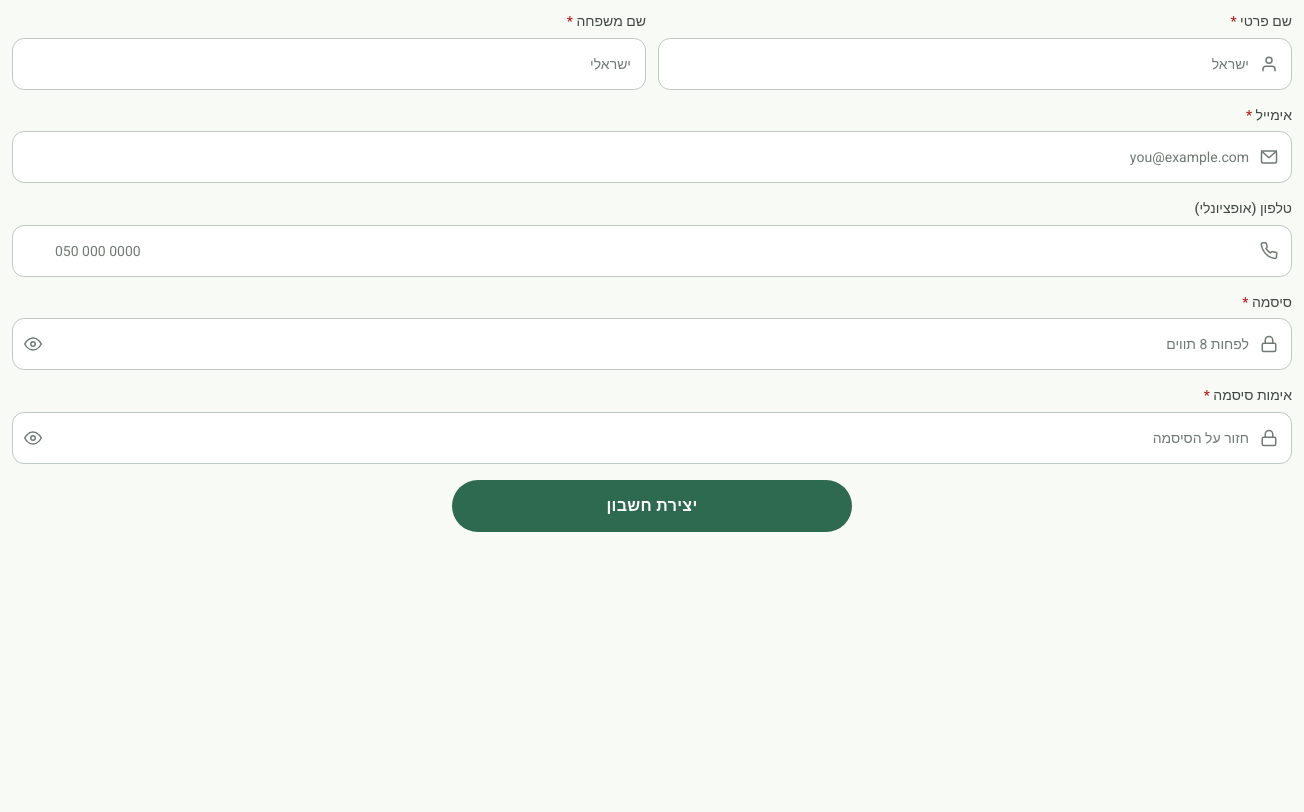
Test case: RegisterFormB2C › rejects mismatched passwords
Step 1. Type "דנה" into the field labelled "שם פרטי *" → (975, 64), box [658,38,1292,90]
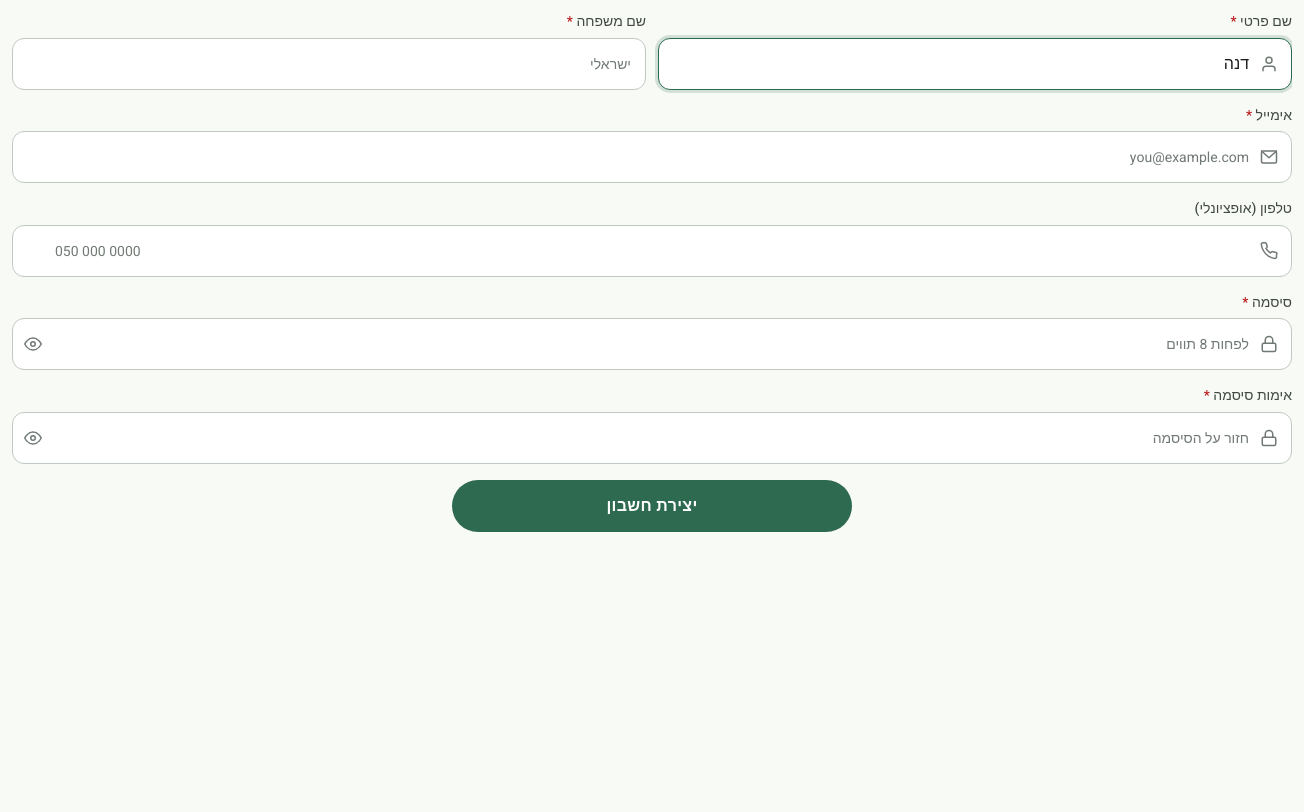
Step 2. Type "כהן" into the field labelled "שם משפחה *" → (329, 64), box [12,38,646,90]
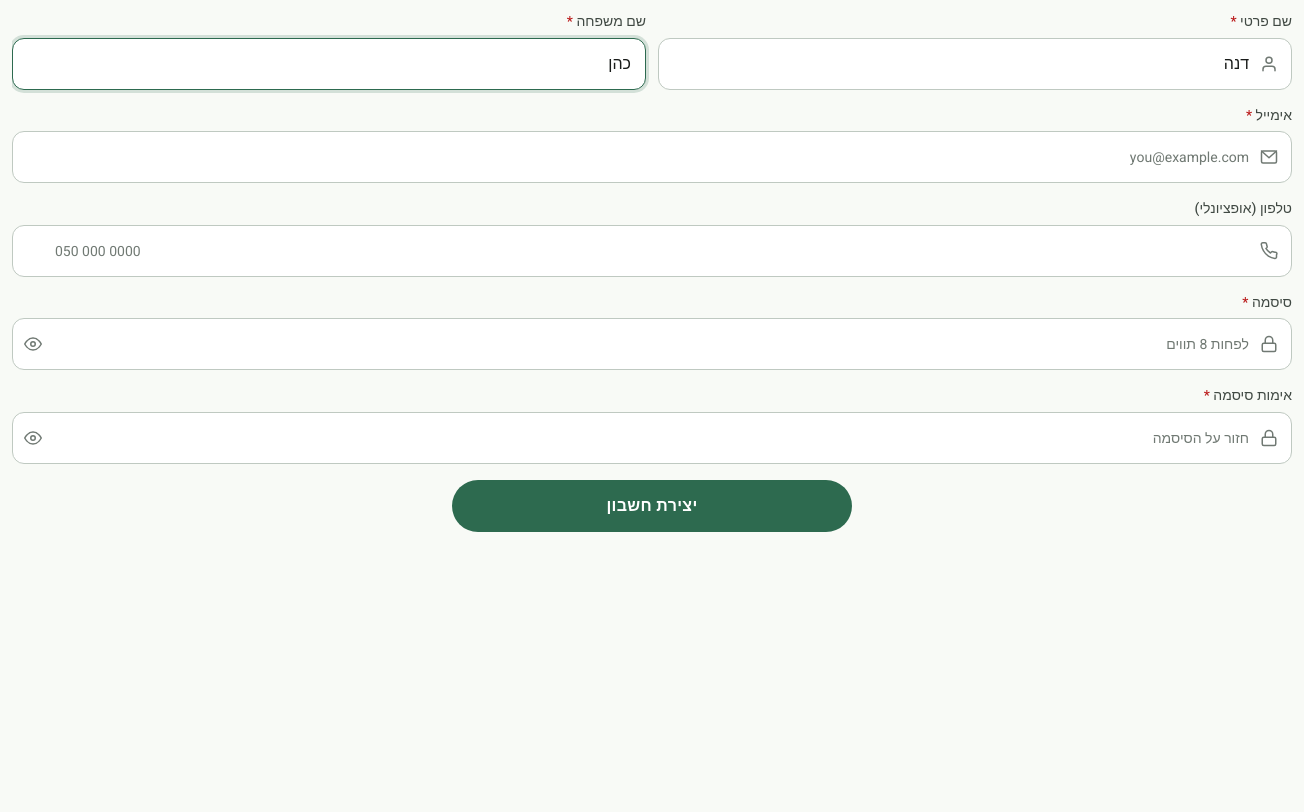
Step 3. Type "dana@last.co" into the field labelled "אימייל *" → (652, 157), box [12,131,1292,183]
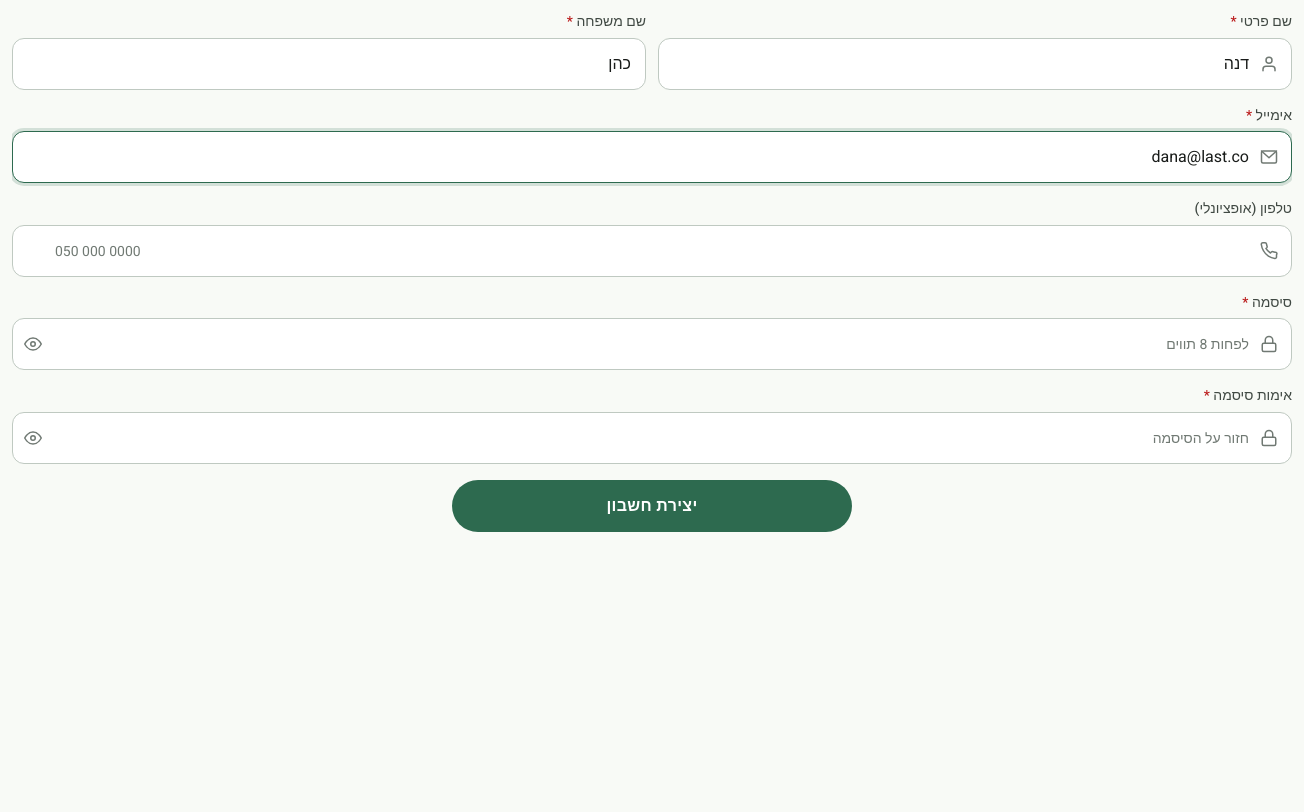
Step 4. Type "secret123" into the password field labelled "סיסמה *" → (652, 344), box [12,318,1292,370]
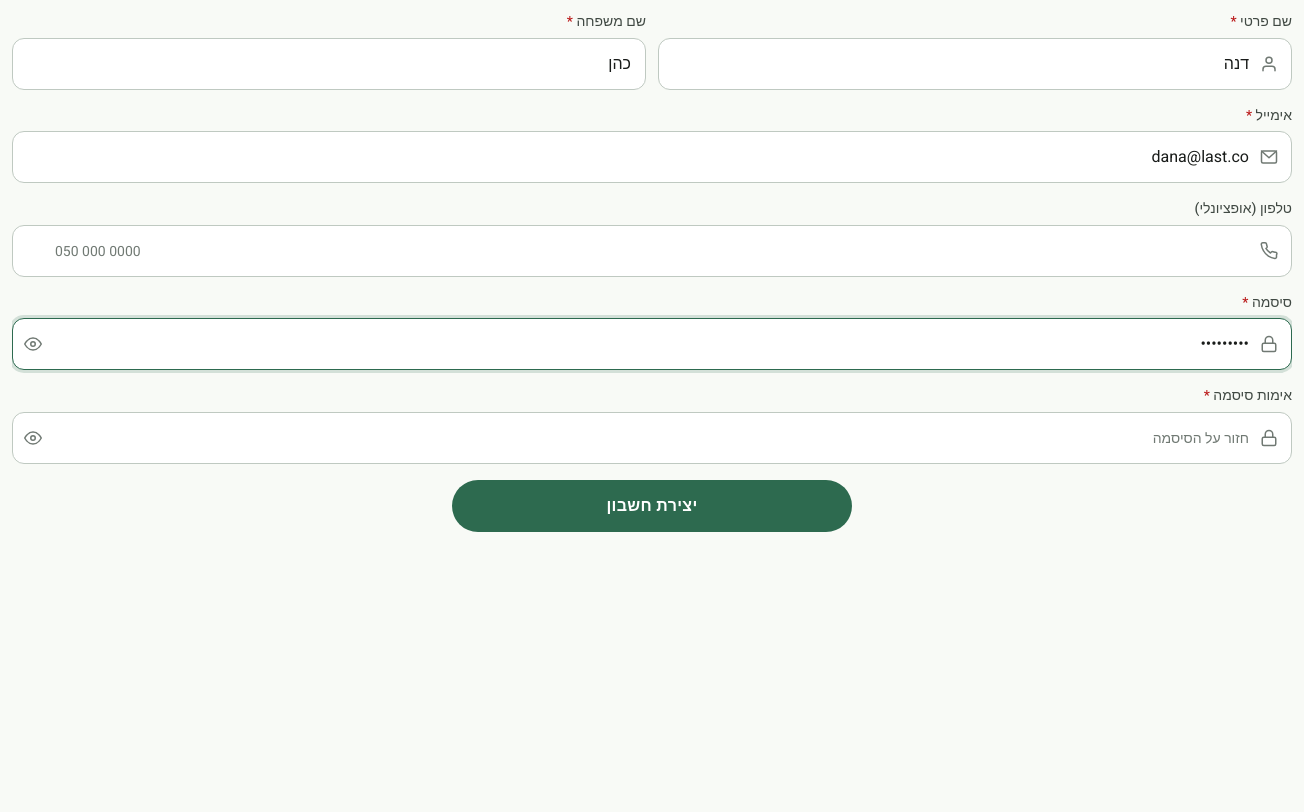
Step 5. Type "different1" into the password field labelled "אימות סיסמה *" → (652, 438), box [12,412,1292,464]
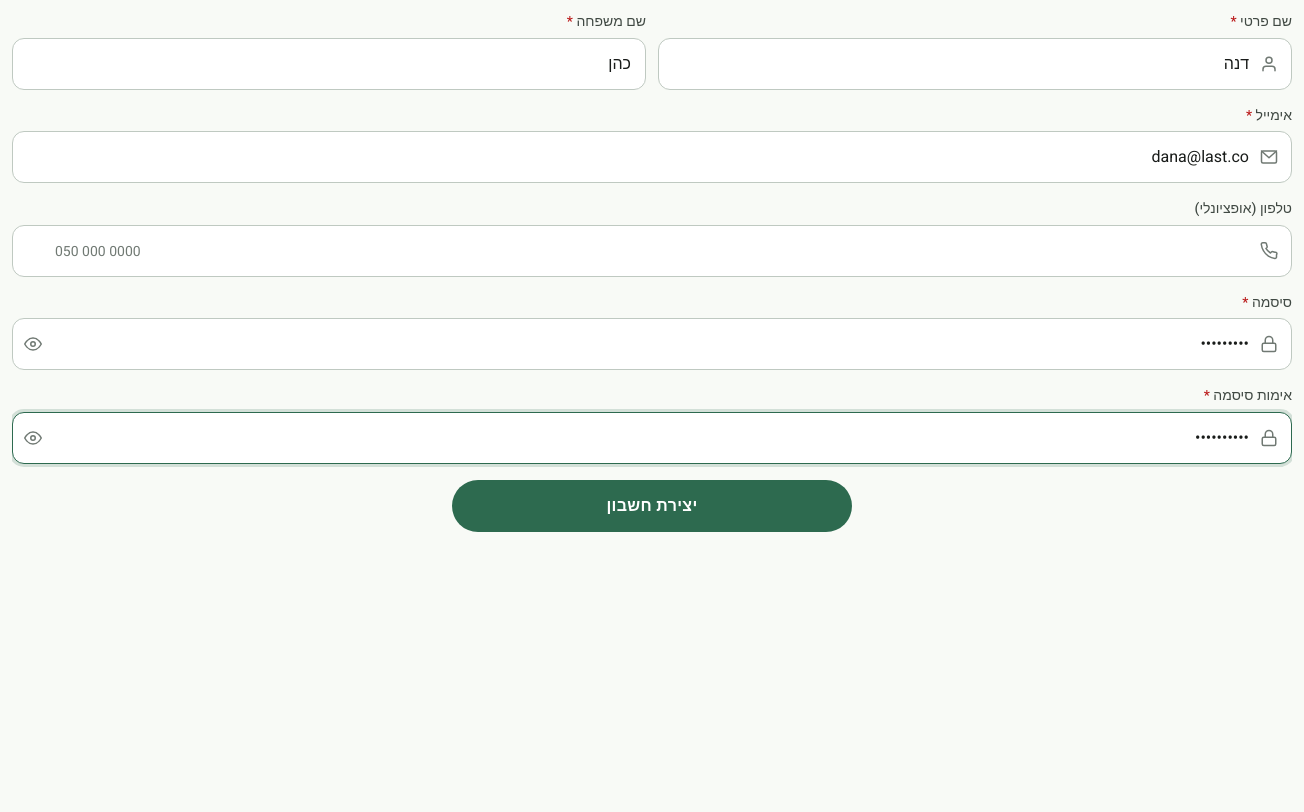
Step 6. Click the button "יצירת חשבון" → click(652, 506), box [452,480,852,532]
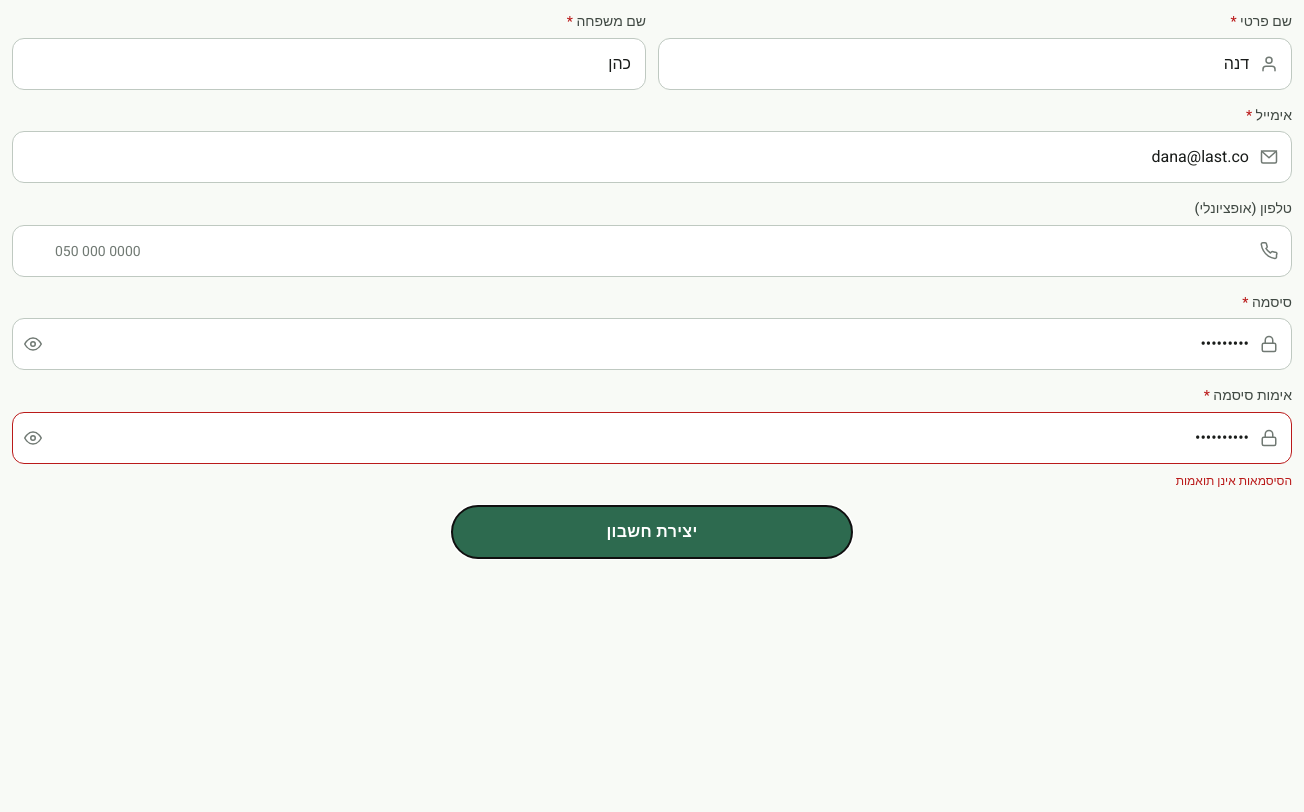
expect the text "הסיסמאות אינן תואמות" is shown: met, box [1176,472,1292,490]
